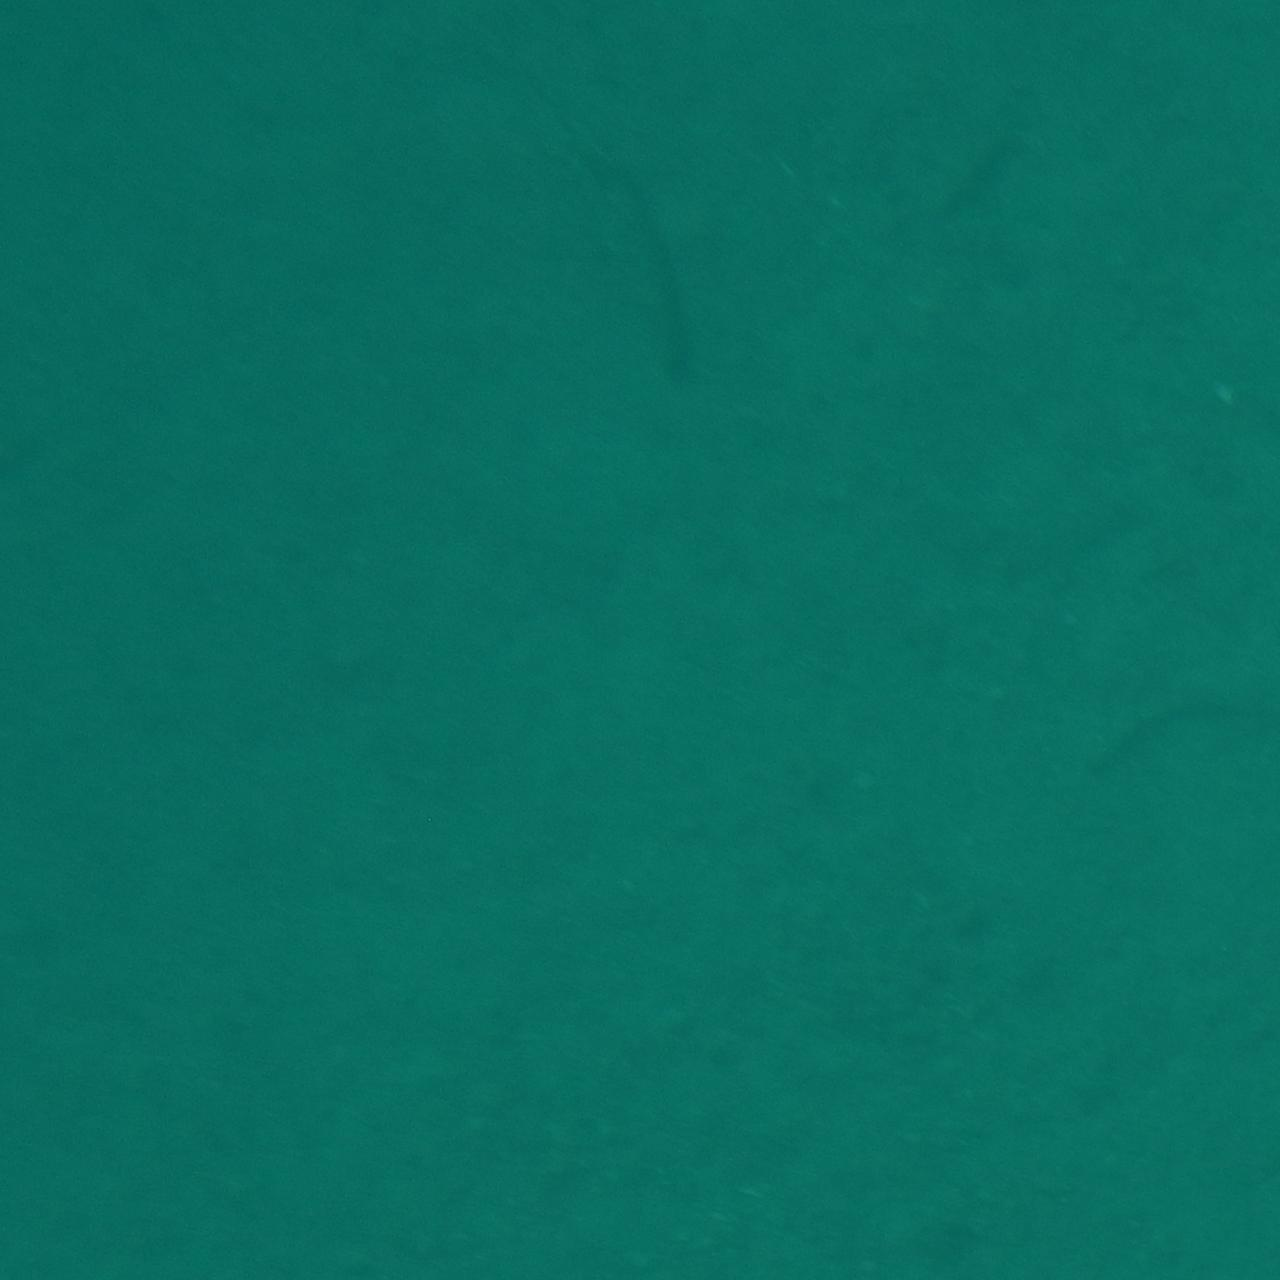Holothuria tubulosa: (590, 125, 690, 433)
